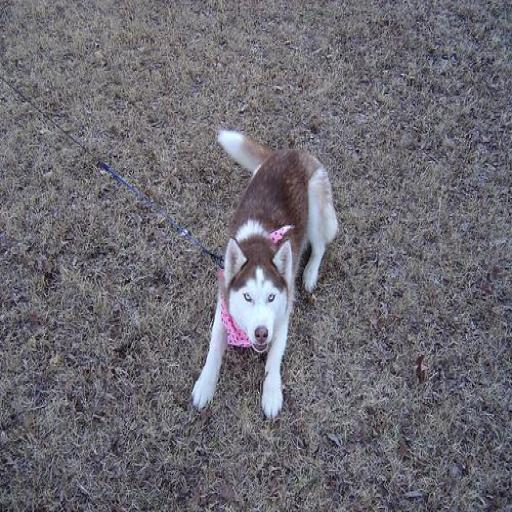dog_face: (226, 237, 293, 346)
